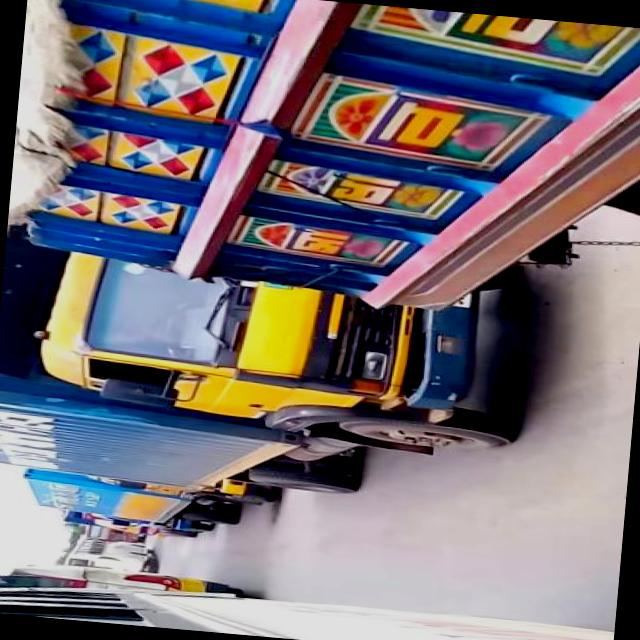bus: (4, 556, 246, 604), (61, 534, 155, 572), (81, 523, 142, 543)
truck: (11, 0, 640, 334), (0, 238, 525, 516), (15, 463, 272, 531)
